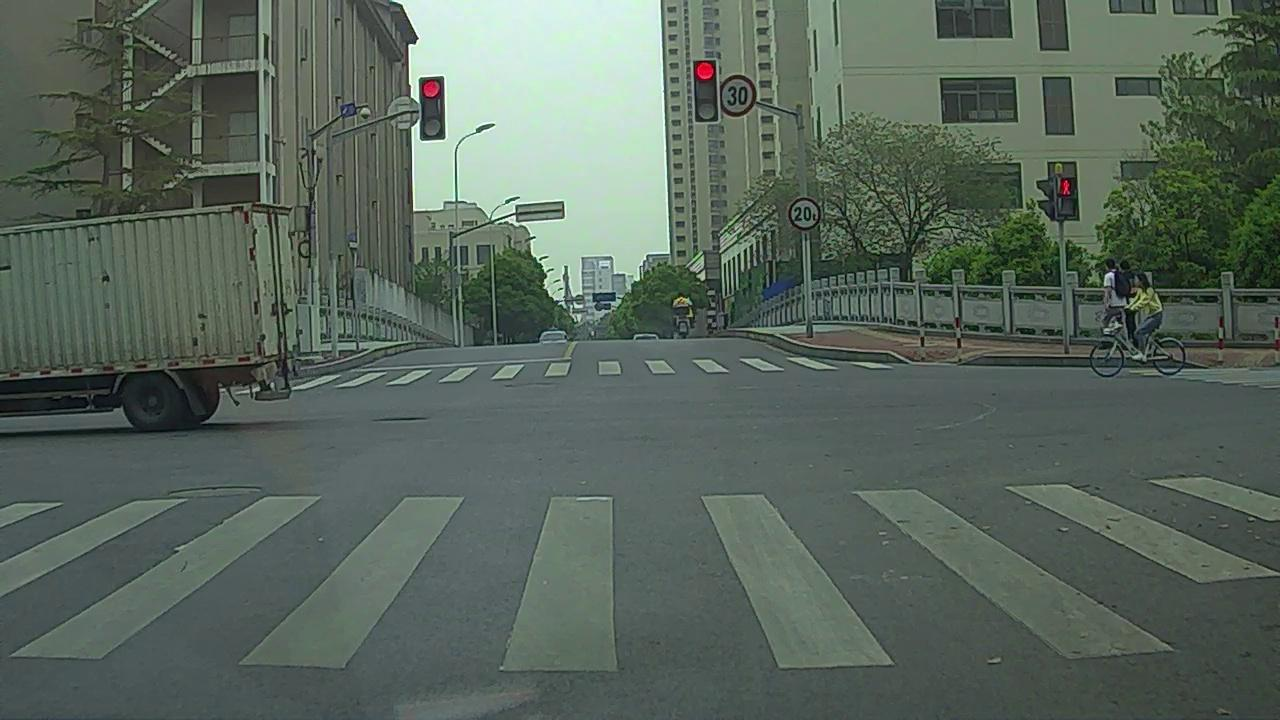traffic_light: (695, 61, 719, 125), (420, 78, 445, 137)
